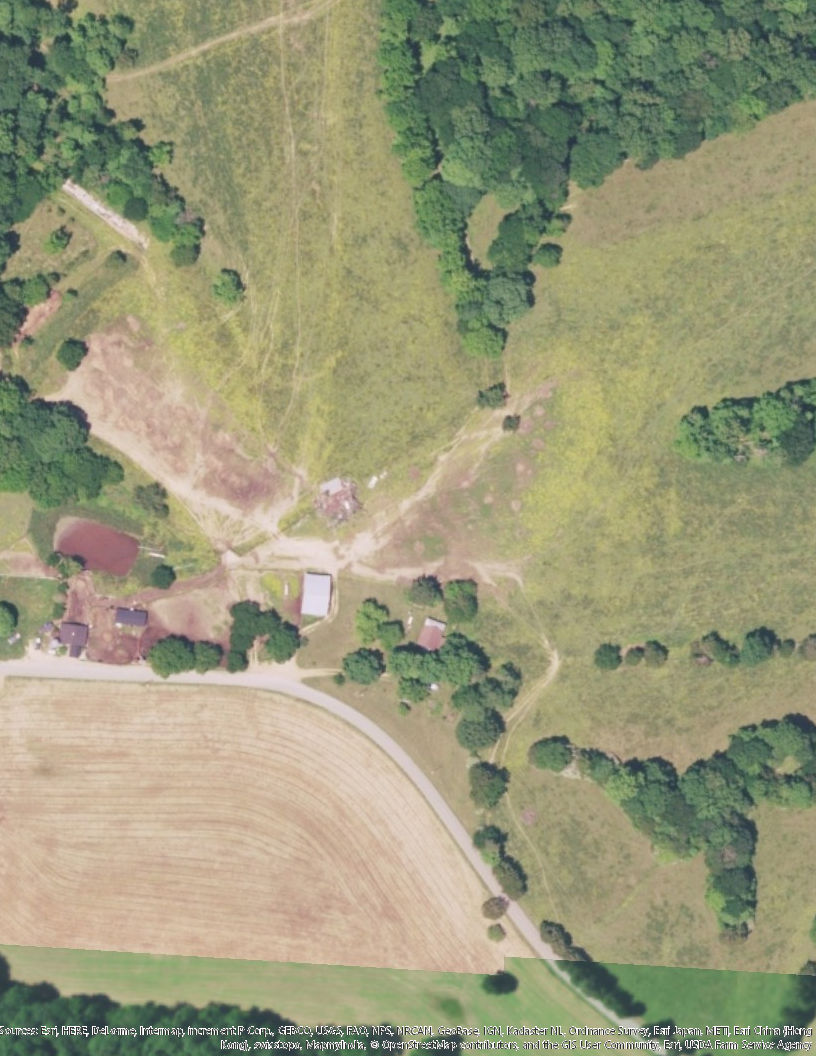cafo: (295, 568, 343, 621)
